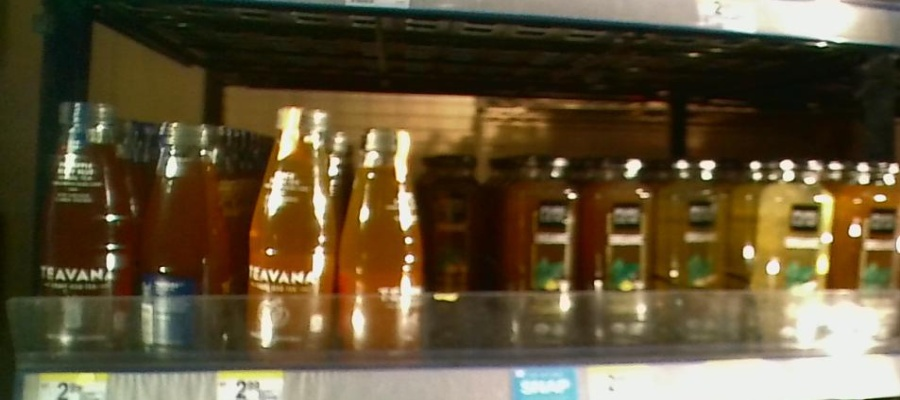bottle: (40, 101, 135, 357), (244, 106, 336, 358), (137, 116, 231, 357), (340, 116, 424, 358), (581, 153, 659, 349), (756, 159, 833, 351), (503, 154, 578, 351), (662, 155, 729, 338), (840, 160, 897, 348), (425, 150, 490, 301)
